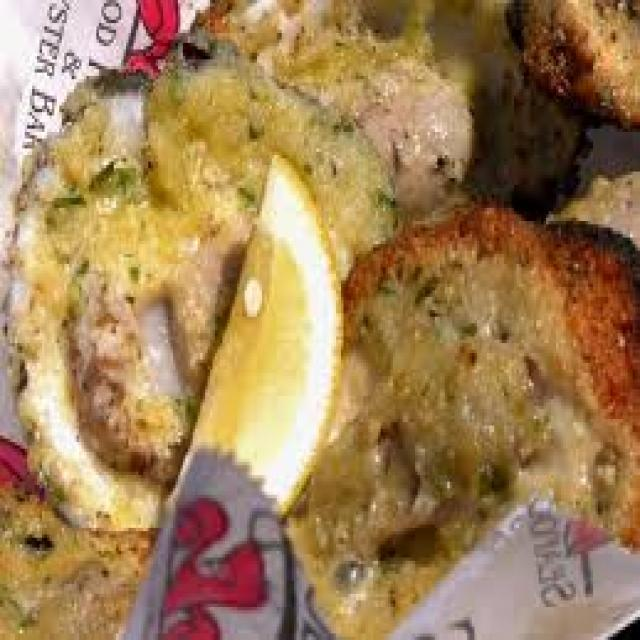lemon: (225, 160, 346, 492)
